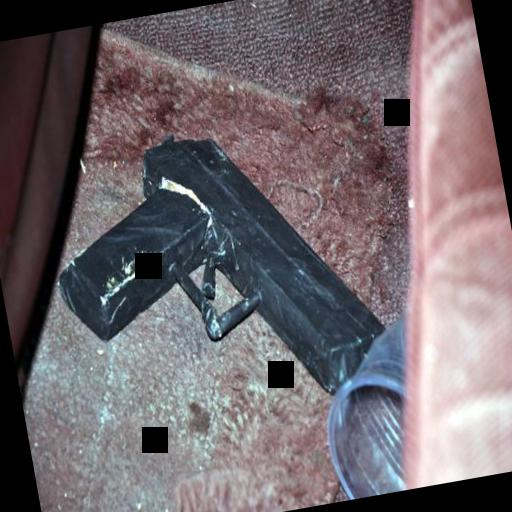Handgun: (32, 98, 396, 440)
